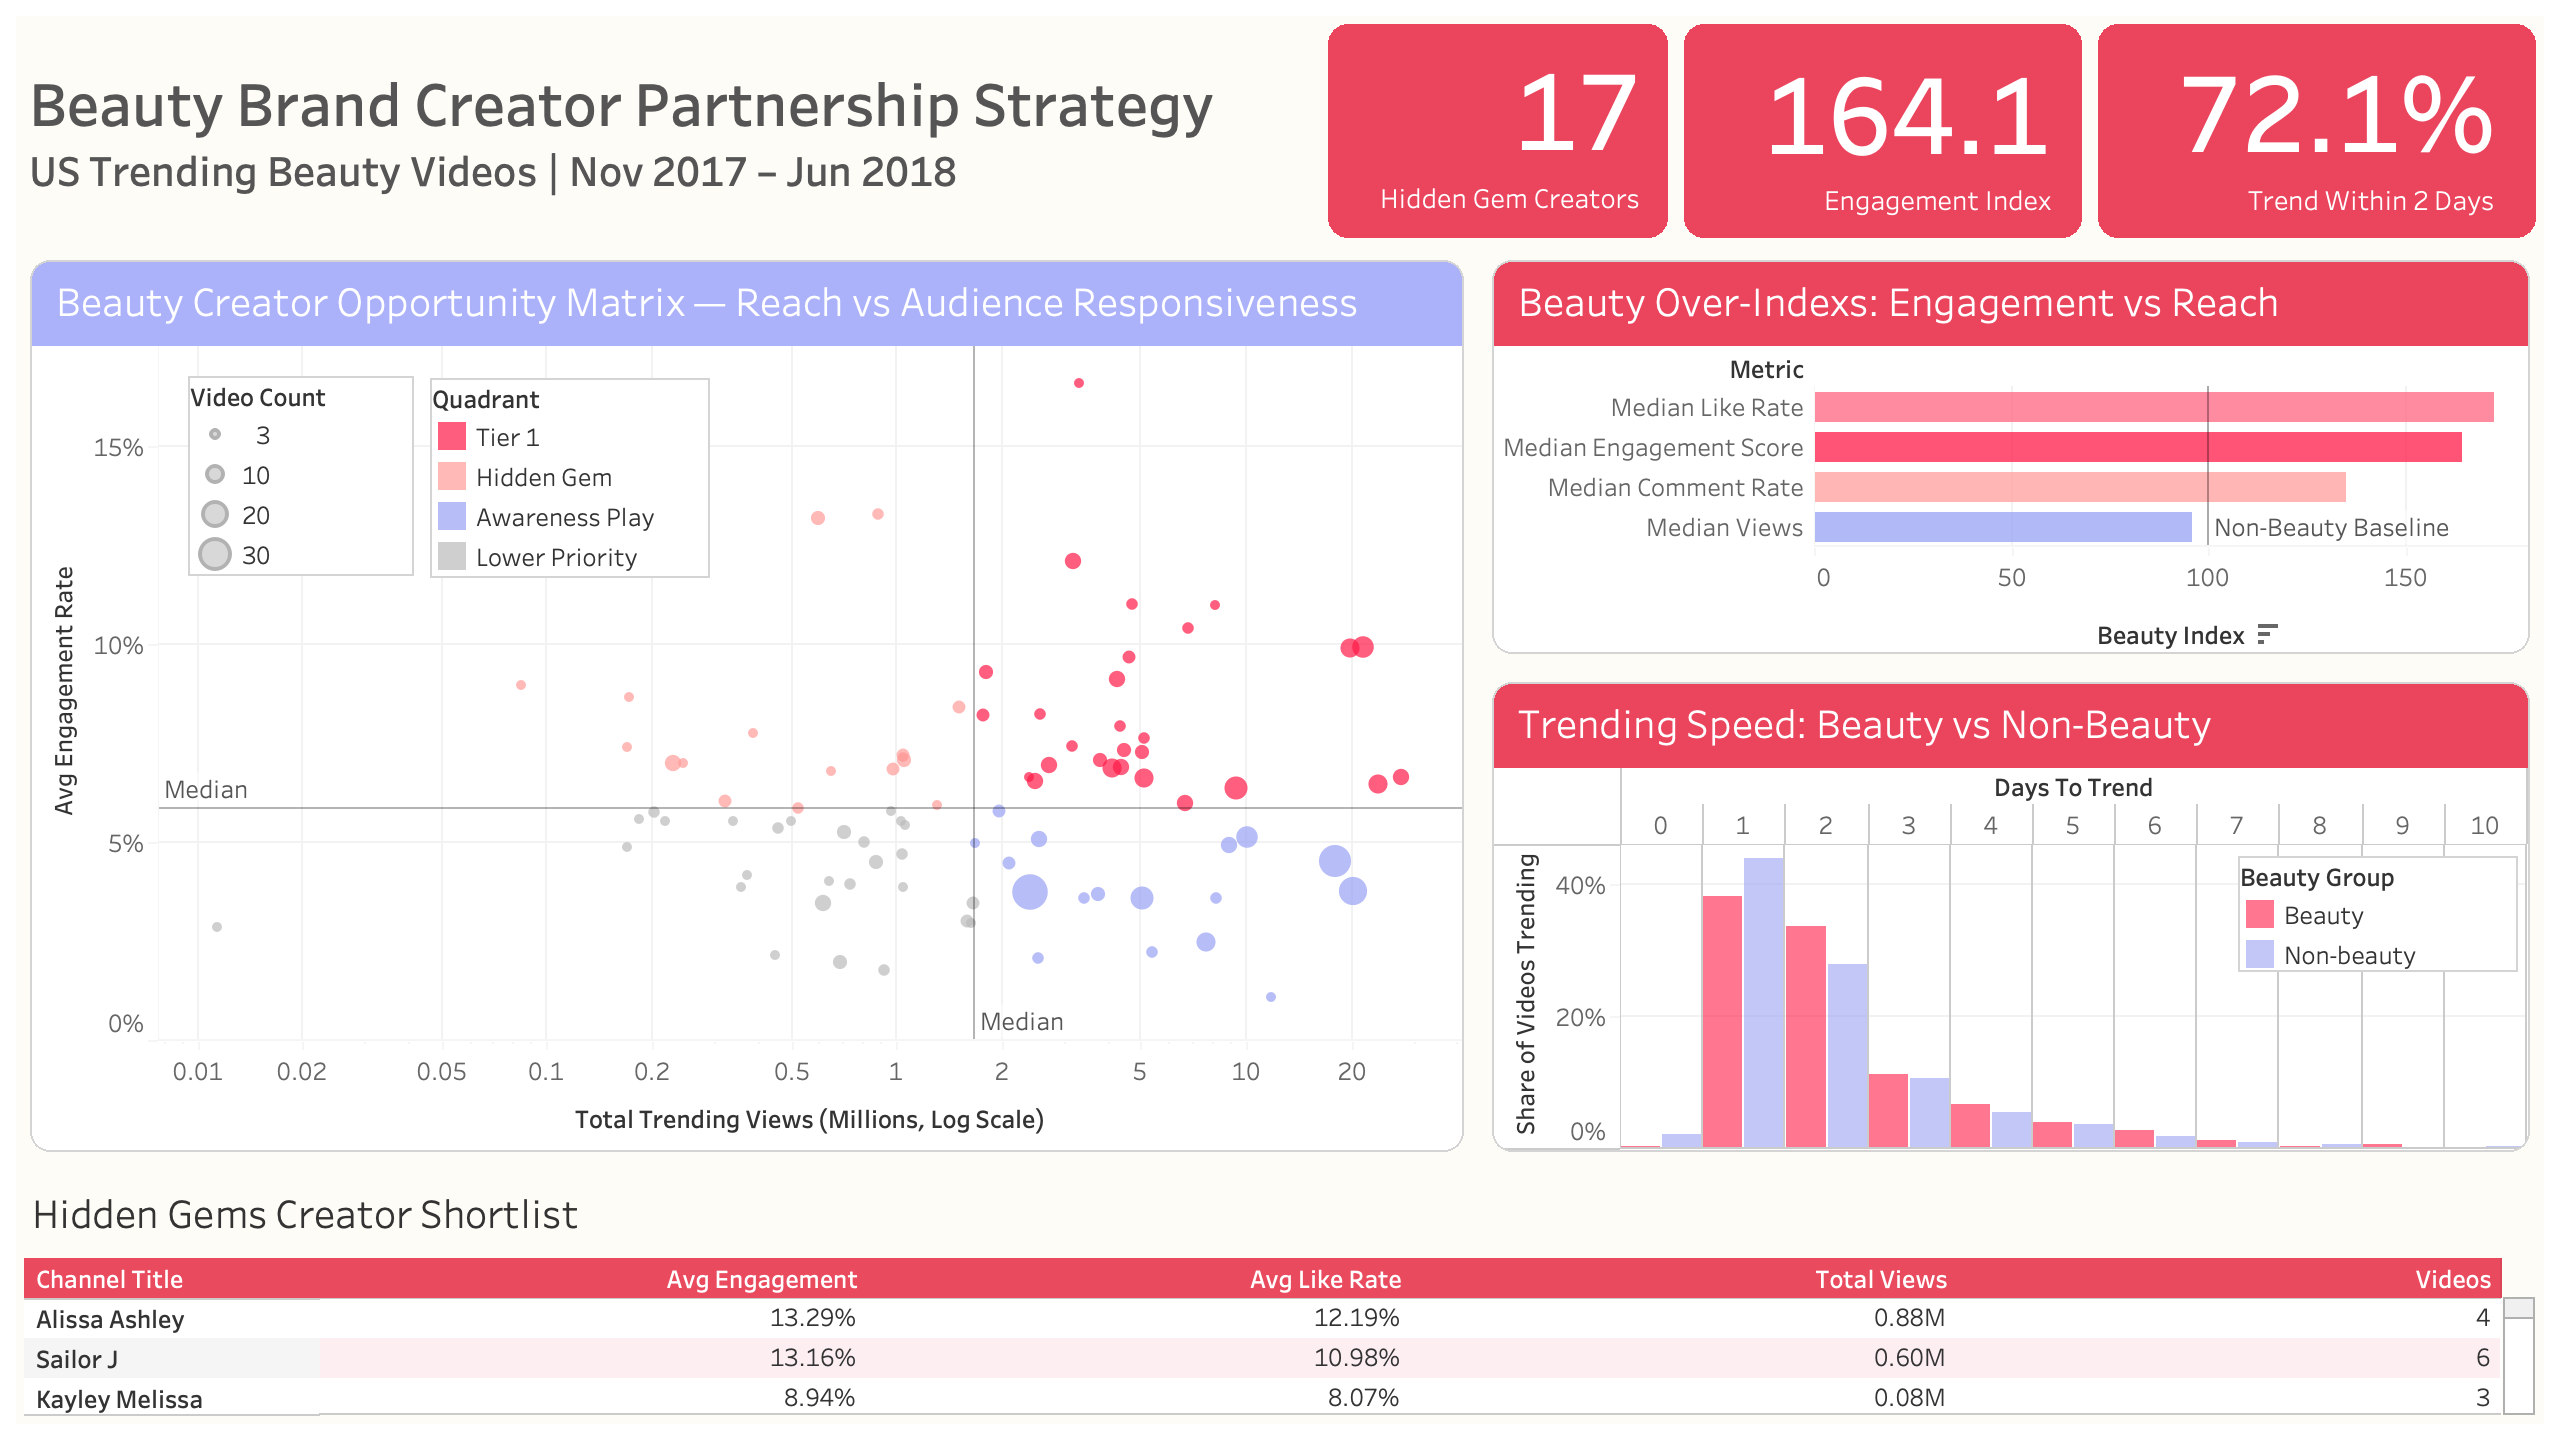

The page's visual inventory and layout, read from the dashboard file:
{"tool":"tableau","page":{"name":"Dashboard","canvas":[1280,720],"ordinal":0},"visuals":[{"type":"text","box":[8,8,652,114.8]},{"type":"worksheet","title":"KPI Hidden Gem","mark":"Text","box":[660,8,178,114.8]},{"type":"worksheet","title":"KPI Engagement","mark":"Automatic","box":[838,8,207,114.8]},{"type":"worksheet","title":"KPI Trend within 2 Days","mark":"Automatic","box":[1045,8,227,114.8]},{"type":"worksheet","title":"Creator Opportunity Matrix","mark":"Circle","rows":["avg_engagement"],"cols":["total_views_M"],"box":[8,122.8,731,460.2]},{"type":"worksheet","title":"Beauty Over-Indexes: Engagement vs Reach","mark":"Bar","rows":["metric"],"cols":["beauty_index"],"box":[739,122.8,532.9,211]},{"type":"legend","title":"Creator Opportunity Matrix","param":"[federated.0ww84bz1hwcxq31fvrym108t4tef].[sum:video_count:qk]","box":[94,188,113,100]},{"type":"legend","title":"Creator Opportunity Matrix","param":"[federated.0ww84bz1hwcxq31fvrym108t4tef].[none:quadrant:nk]","box":[215,189,140,100]},{"type":"worksheet","title":"48-Hour Viral Window","mark":"Bar","rows":["pct_of_group"],"cols":["days_to_trend","beauty_group"],"box":[739,333.8,532.9,249.2]},{"type":"legend","title":"48-Hour Viral Window","param":"[federated.0g7hvtq1uq55450zjq5mp05nitzj].[none:beauty_group:nk]","box":[1119,428,140,58]},{"type":"worksheet","title":"Hidden Gem Creator Shortlist","mark":"Text","rows":["channel_title"],"box":[8,583,1264,129]}]}

Visuals, with their boxes in screenshot pixels (x1, y1, x2, y2), scaled from the page's 1280x720 canvas onto the 2560x1440 screenshot:
text: region(16, 16, 1320, 246)
"KPI Hidden Gem" worksheet (Text marks): region(1320, 16, 1676, 246)
"KPI Engagement" worksheet: region(1676, 16, 2090, 246)
"KPI Trend within 2 Days" worksheet: region(2090, 16, 2544, 246)
"Creator Opportunity Matrix" worksheet (Circle marks): region(16, 246, 1478, 1166)
"Beauty Over-Indexes: Engagement vs Reach" worksheet (Bar marks): region(1478, 246, 2544, 668)
"Creator Opportunity Matrix" legend: region(188, 376, 414, 576)
"Creator Opportunity Matrix" legend: region(430, 378, 710, 578)
"48-Hour Viral Window" worksheet (Bar marks): region(1478, 668, 2544, 1166)
"48-Hour Viral Window" legend: region(2238, 856, 2518, 972)
"Hidden Gem Creator Shortlist" worksheet (Text marks): region(16, 1166, 2544, 1424)
